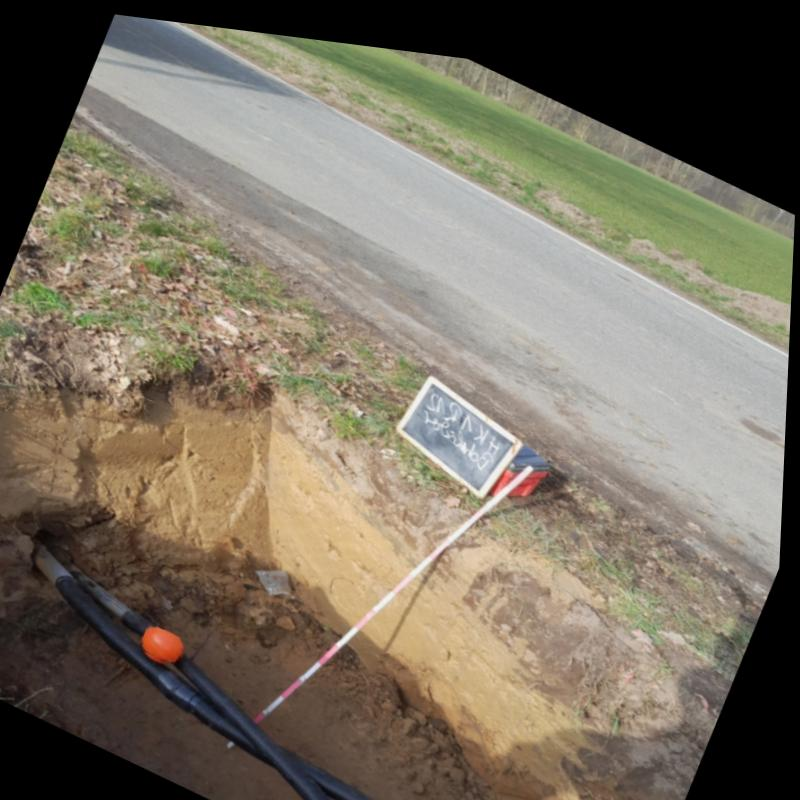Kugelmarker: (148, 621, 187, 659)
